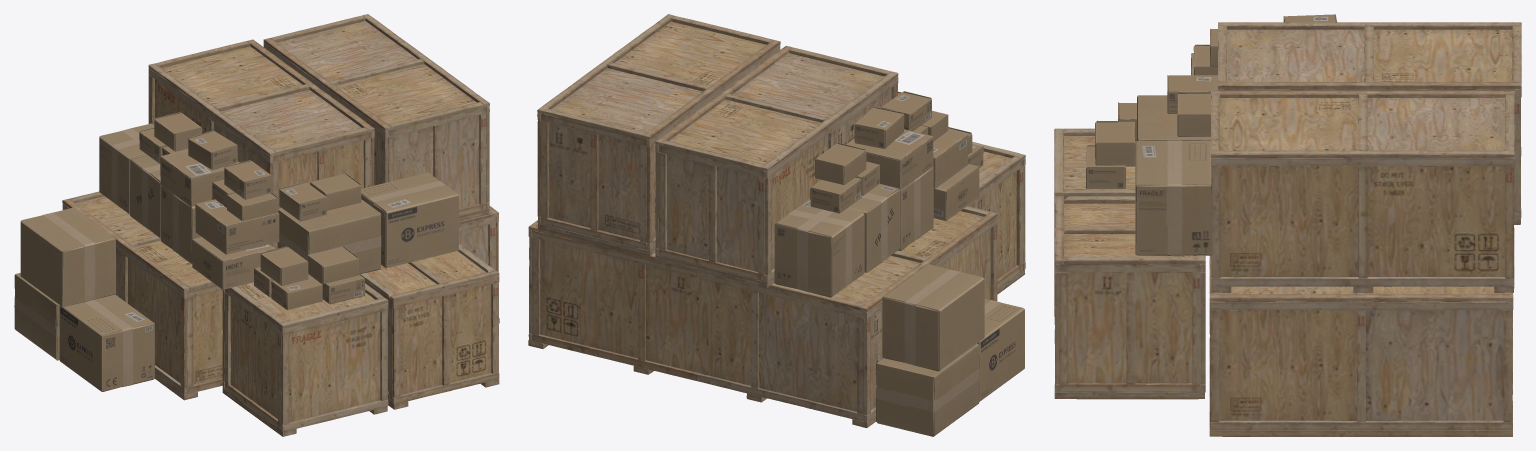
The model's file is crate_pile.glb.
3 views of the same model, side by side, from view 1: azimuth 30°, elevation 25°; view 2: azimuth 150°, elevation 25°; view 3: azimuth 270°, elevation 25° (orthographic). The views are drawn at different scales.
Parts seen in each view (by area): view 1: crate_pile_mesh; view 2: crate_pile_mesh; view 3: crate_pile_mesh.
Part boxes in pixels (x1,y1,x2,y2): crate_pile_mesh: [14, 14, 499, 436]; crate_pile_mesh: [528, 14, 1025, 436]; crate_pile_mesh: [1054, 14, 1521, 436].
Bounding box in the file's own units: 3.52 × 2.02 × 3.08.
Materials: 8 (8 with a texture image).
